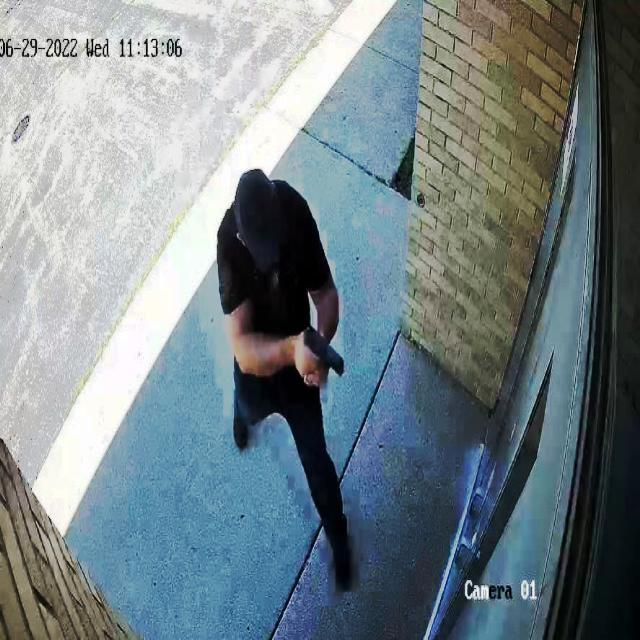Gun: (292, 318, 353, 389)
